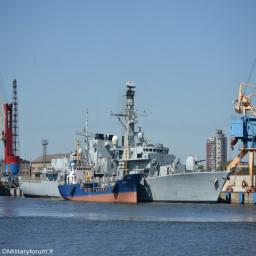Fragata: (19, 80, 234, 206)
